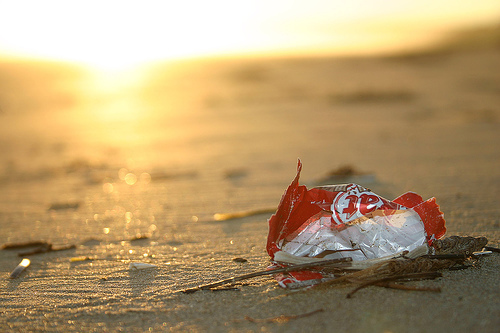litter: (266, 157, 446, 290)
